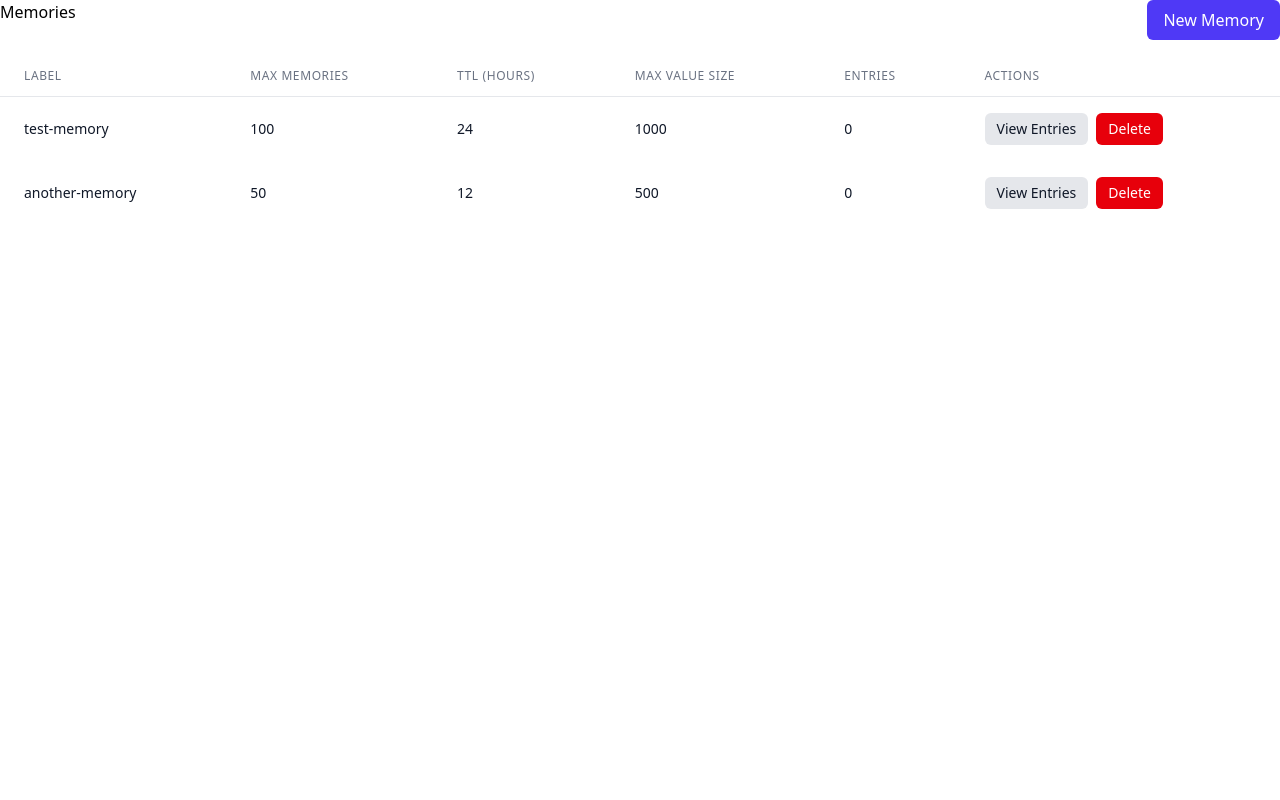
Test: MemoriesSection › create form shows validation error when label contains invalid characters
Expected: the text "test-memory" is shown, [0, 96, 226, 161]
Step 1. Click the button "New Memory" → coordinates (1214, 20), box [1148, 0, 1279, 40]
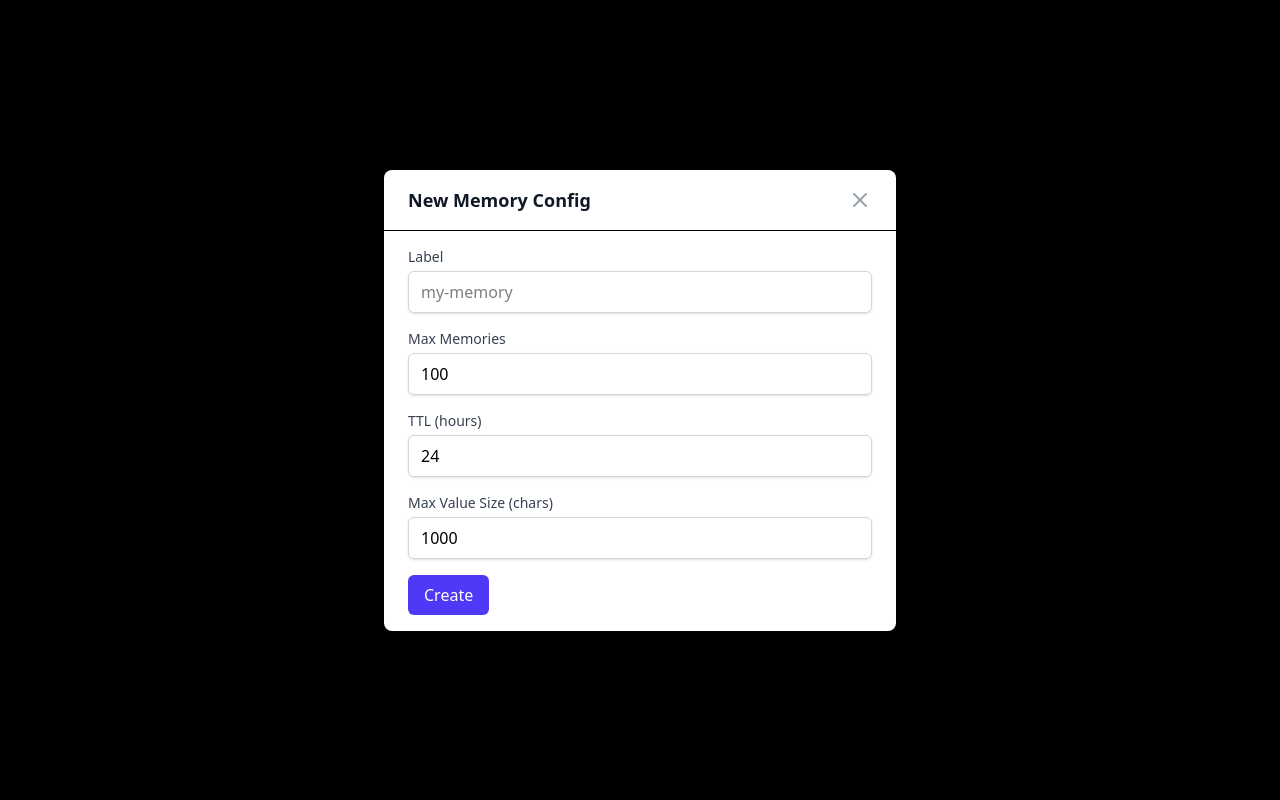
Step 2. Type "my label!" into the field labelled "Label" → coordinates (640, 292), box [408, 270, 872, 312]
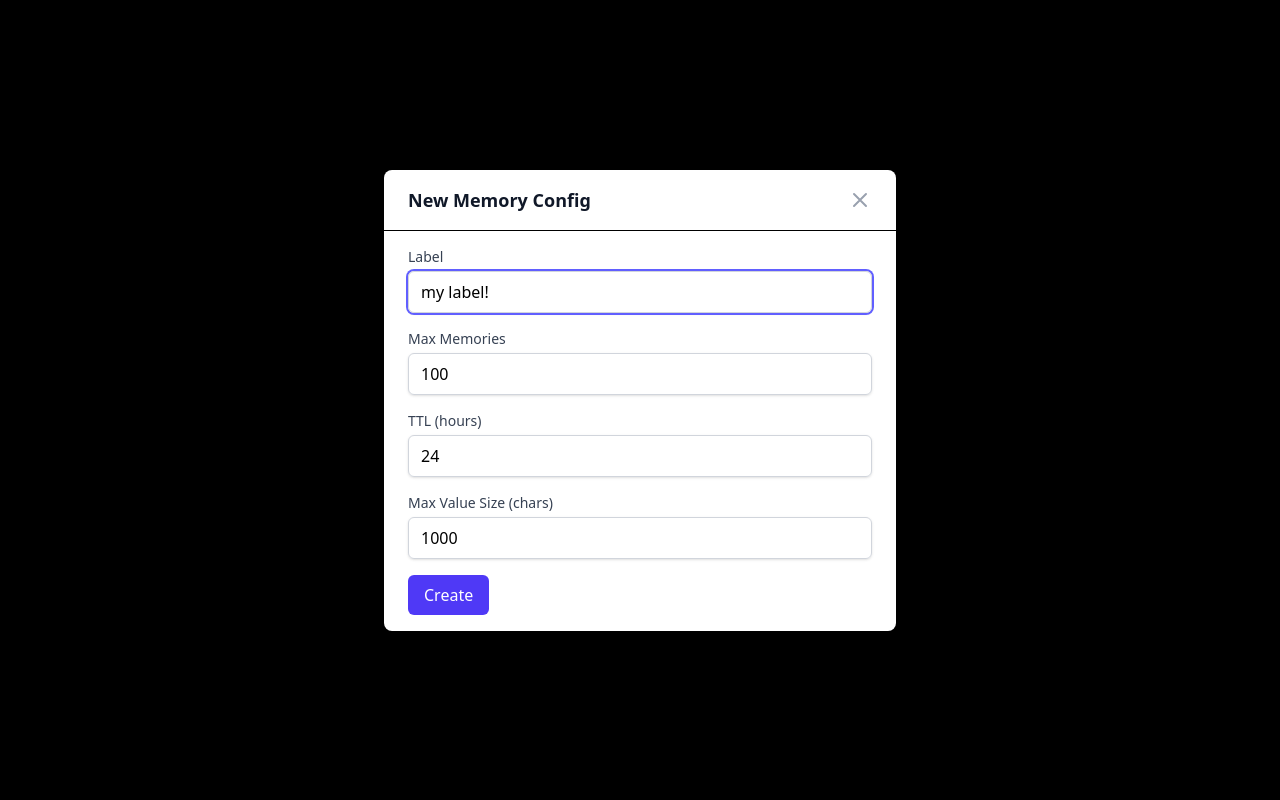
Step 3. Click the button "Create" → coordinates (449, 594), box [408, 574, 489, 614]
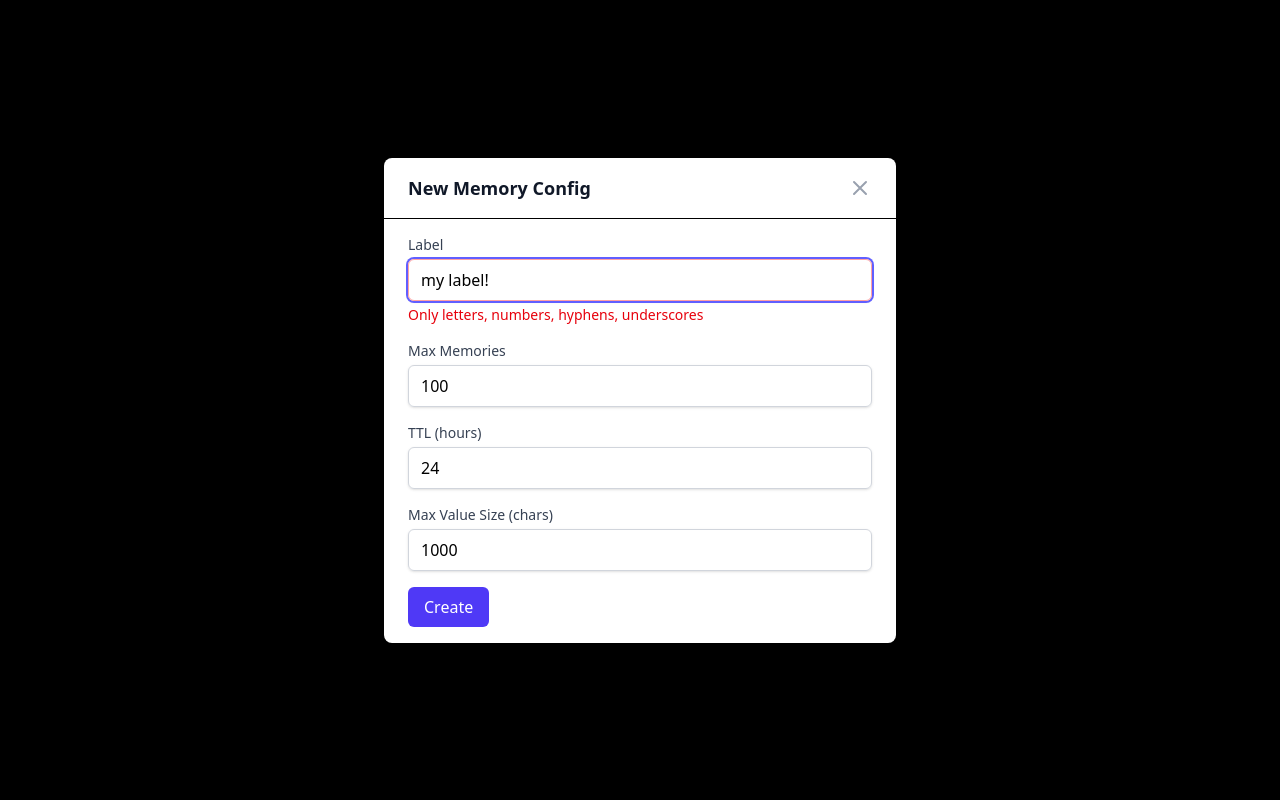
Now the text "Only letters, numbers, hyphens, underscores" is shown, box [408, 304, 704, 324]
